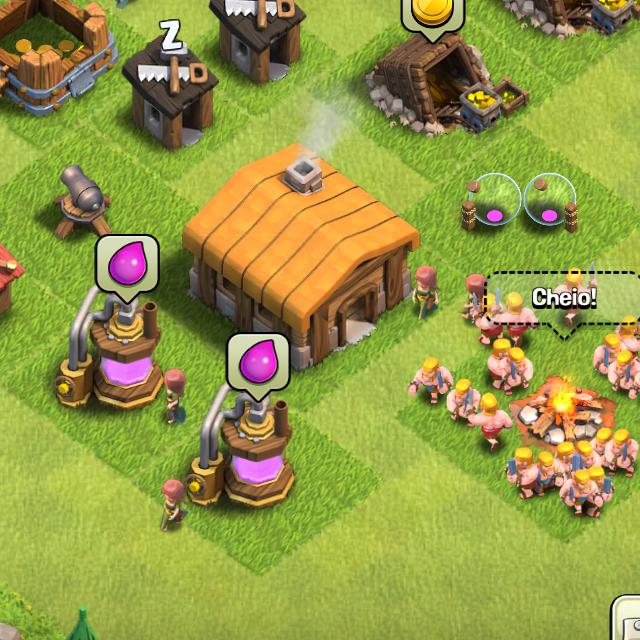Elixir: (226, 334, 288, 405), (94, 236, 157, 304)
coin: (404, 0, 466, 42)
